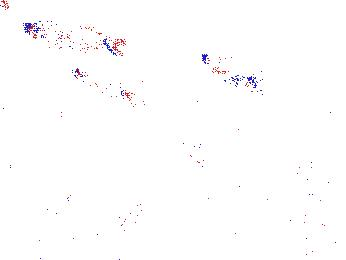X-ray fish: (111, 192, 165, 236)
glassfish: (181, 142, 269, 197)
red belly glassfish: (202, 55, 252, 85)
redtail glassfish: (22, 20, 126, 63), (71, 65, 136, 110)
